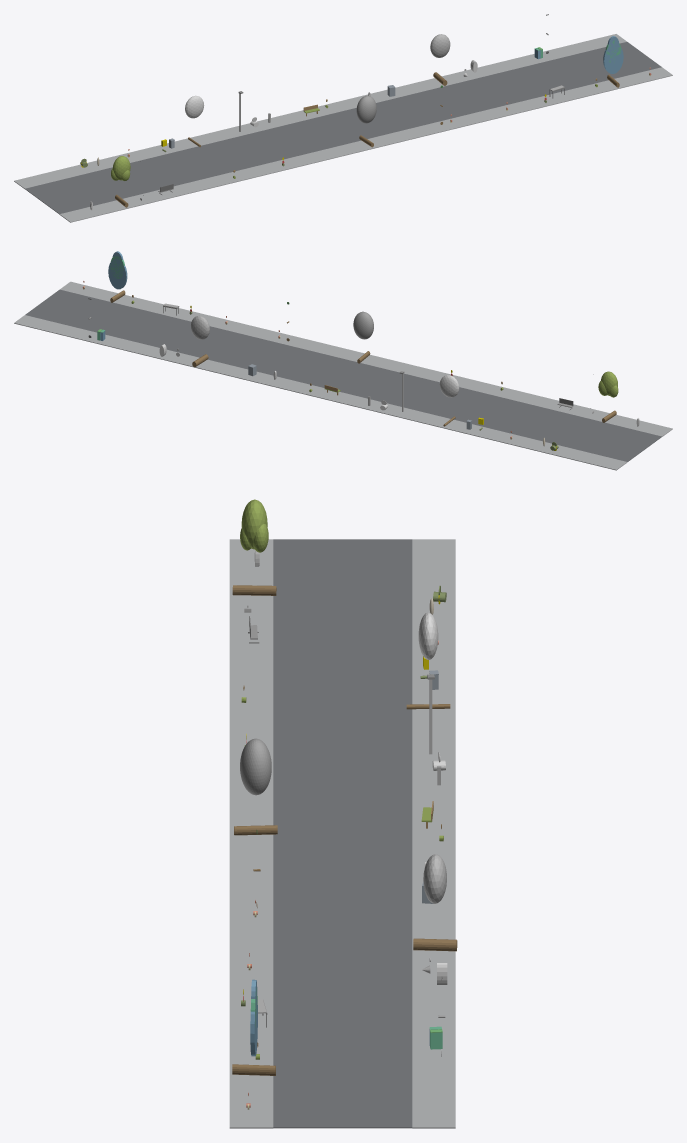
3 renders of one model, top to bottom at view 1: azimuth 30°, elevation 25°; view 2: azimuth 150°, elevation 25°; view 3: azimuth 270°, elevation 25°, orthographic. The views are drawn at different scales.
Visible parts, largest first — view 1: road_slab, sidewalk_left, sidewalk_right, inst_0016, inst_0014, inst_0015, inst_0012, inst_0013; view 2: road_slab, sidewalk_right, sidewalk_left, inst_0016, inst_0014, inst_0012, inst_0015, inst_0013; view 3: road_slab, sidewalk_left, sidewalk_right, inst_0014, inst_0012, inst_0015, inst_0016, inst_0013.
Boxes of the visible parts, <box> form: road_slab: <box>25,42,661,214</box>; sidewalk_left: <box>59,67,672,222</box>; sidewalk_right: <box>14,34,626,188</box>; inst_0016: <box>603,36,623,87</box>; inst_0014: <box>356,95,376,147</box>; inst_0015: <box>430,34,450,85</box>; inst_0012: <box>111,156,130,207</box>; inst_0013: <box>185,95,204,147</box>; road_slab: <box>25,289,661,461</box>; sidewalk_right: <box>14,315,627,470</box>; sidewalk_left: <box>60,281,672,436</box>; inst_0016: <box>108,251,127,302</box>; inst_0014: <box>353,311,373,363</box>; inst_0012: <box>598,371,618,422</box>; inst_0015: <box>191,315,209,367</box>; inst_0013: <box>439,375,459,426</box>; road_slab: <box>273,539,412,1128</box>; sidewalk_left: <box>229,539,273,1128</box>; sidewalk_right: <box>412,539,455,1128</box>; inst_0014: <box>234,738,277,835</box>; inst_0012: <box>232,499,276,595</box>; inst_0015: <box>413,854,457,951</box>; inst_0016: <box>232,979,275,1075</box>; inst_0013: <box>406,612,450,709</box>.
Bounding box in the file's own units: 80 × 6.08 × 13.08.
